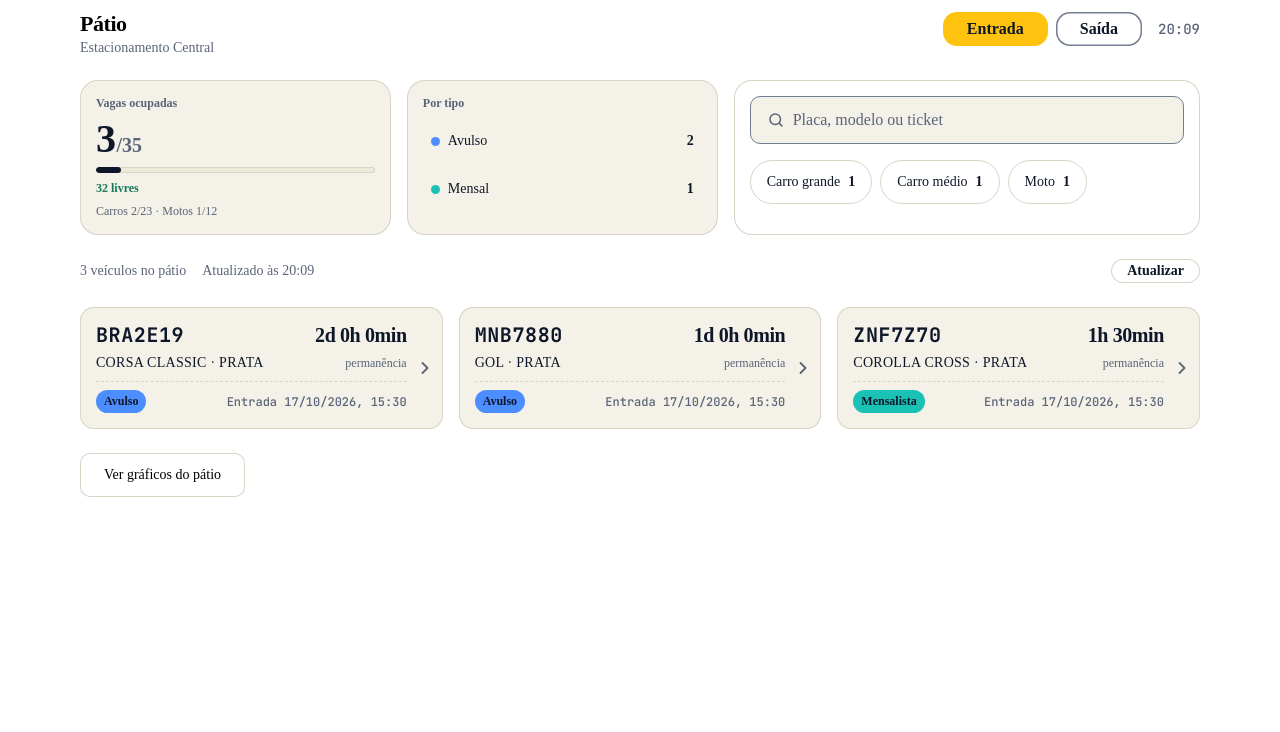
Scenario: PatioView: busca › sem resultado diz o que foi buscado e deixa limpar
This screenshot has width=1280, height=732.
Type "zzzz" into the search field named "Buscar por placa, modelo ou ticket". click: (980, 120)
box: [793,111,1167,129]
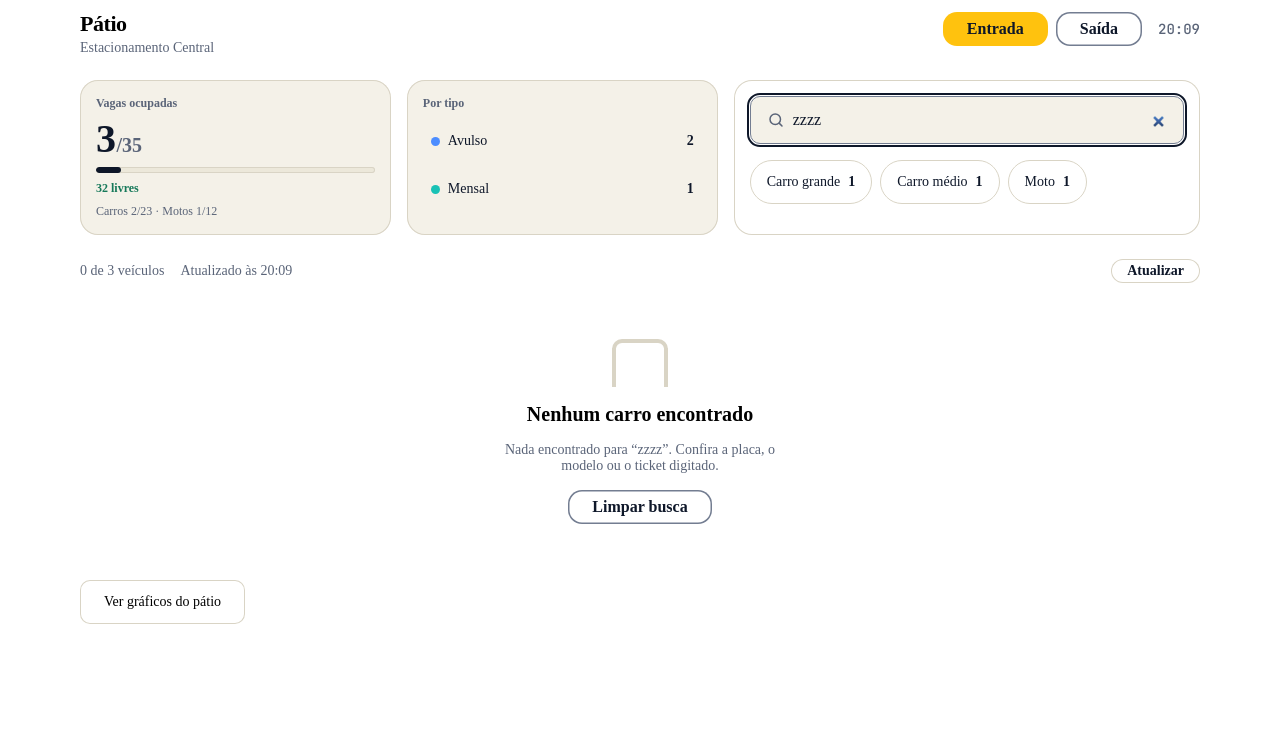
Expected: the text "Nenhum carro encontrado" is shown, [527,403,753,426]
Expected: the text "Nada encontrado para “zzzz”" is shown, [505,442,775,473]
Click the button "Limpar busca". click: (640, 507)
box: [568,490,712,524]
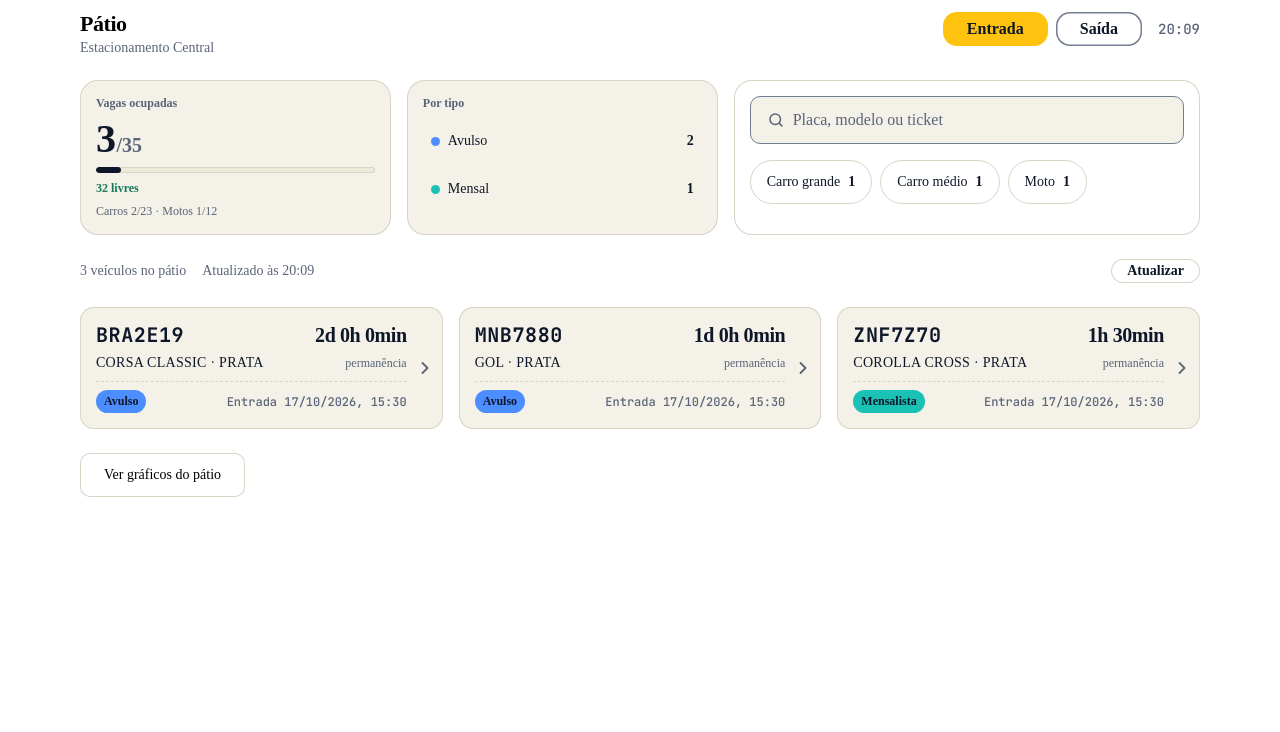
Expected: the message reads "3 veículos no pátio", [80,263,186,278]
Expected: the search field named "Buscar por placa, modelo ou ticket" is empty, [793,111,1167,129]
